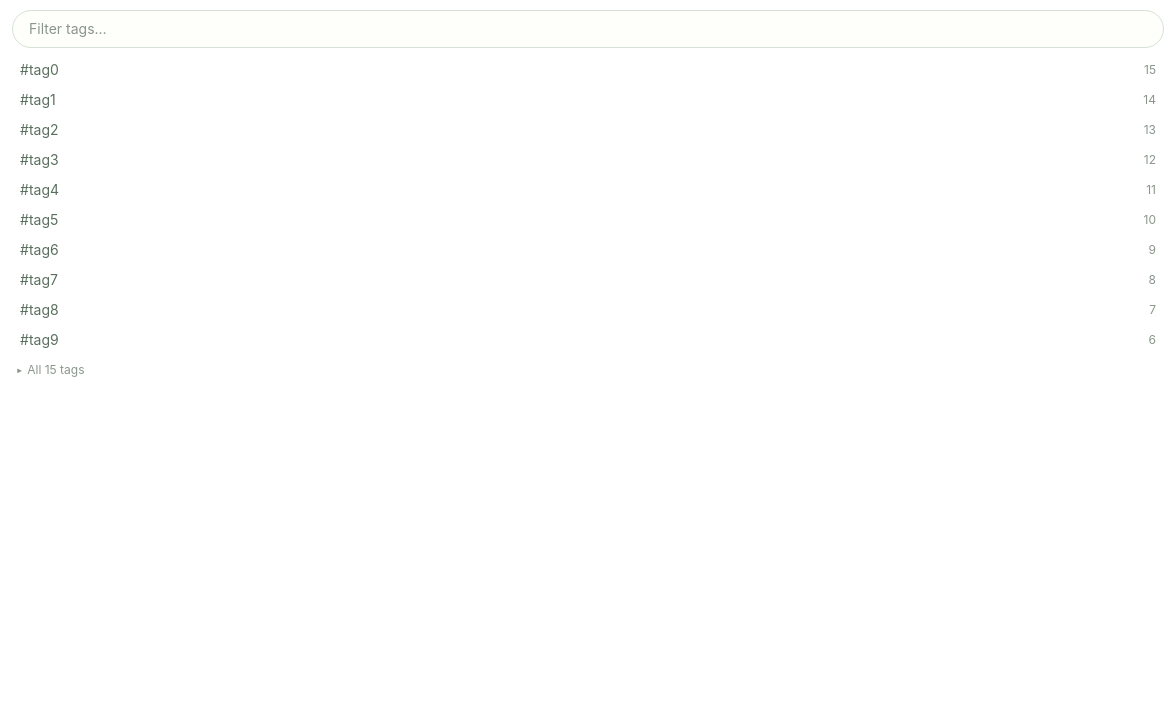
Test case: TagBrowser › shortlist + disclosure › reveals the full grouped tree when the 'All N tags' disclosure is opened
What coordinates should you click on to do the following:
click the button "▸ All 15 tags"
I would click on:
 (50, 370)
Its box is [12,358,88,382].
(page scrolled)
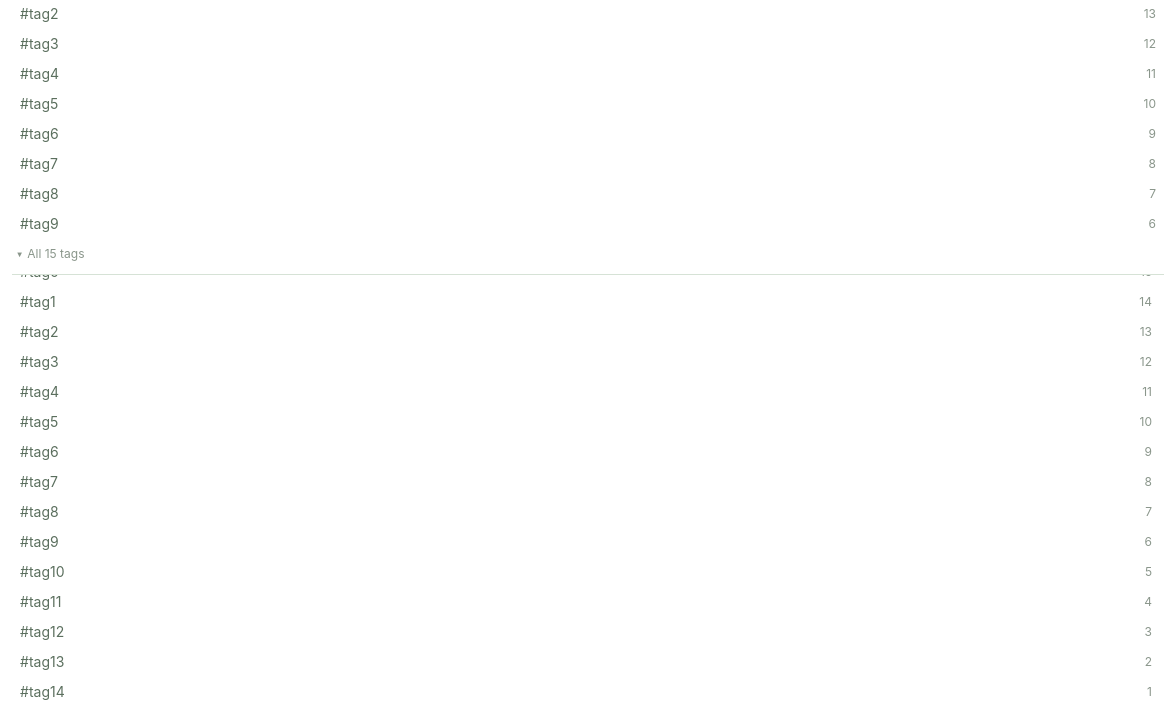
Result: the button titled "#tag14" is shown at [12,678,1160,705]
